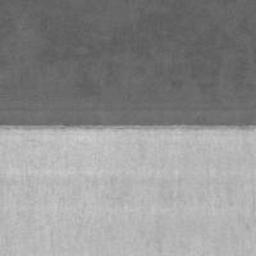Welding line: (0, 124, 256, 132)
